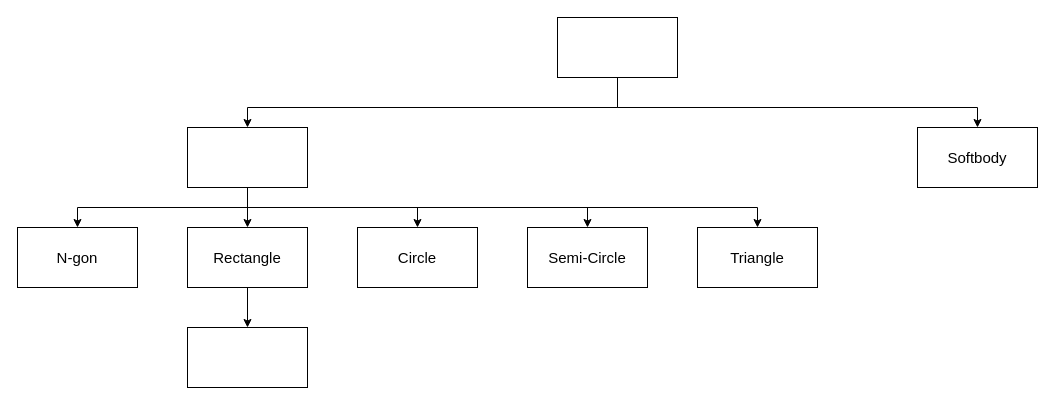
Image size: 1055x405. Some labels were removed from this diagram. Each missing label, with the centre of its shape:
"Body" goes at [617,47].
"Rigidbody" goes at [247,157].
"Square" goes at [247,357].
